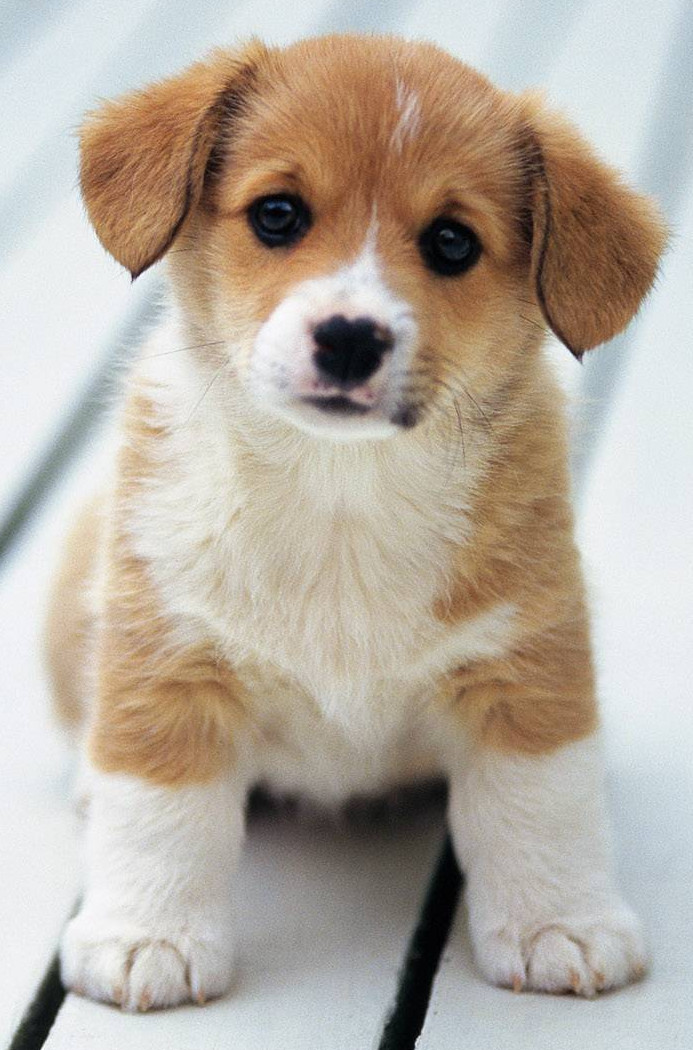dog: (0, 0, 693, 1050)
